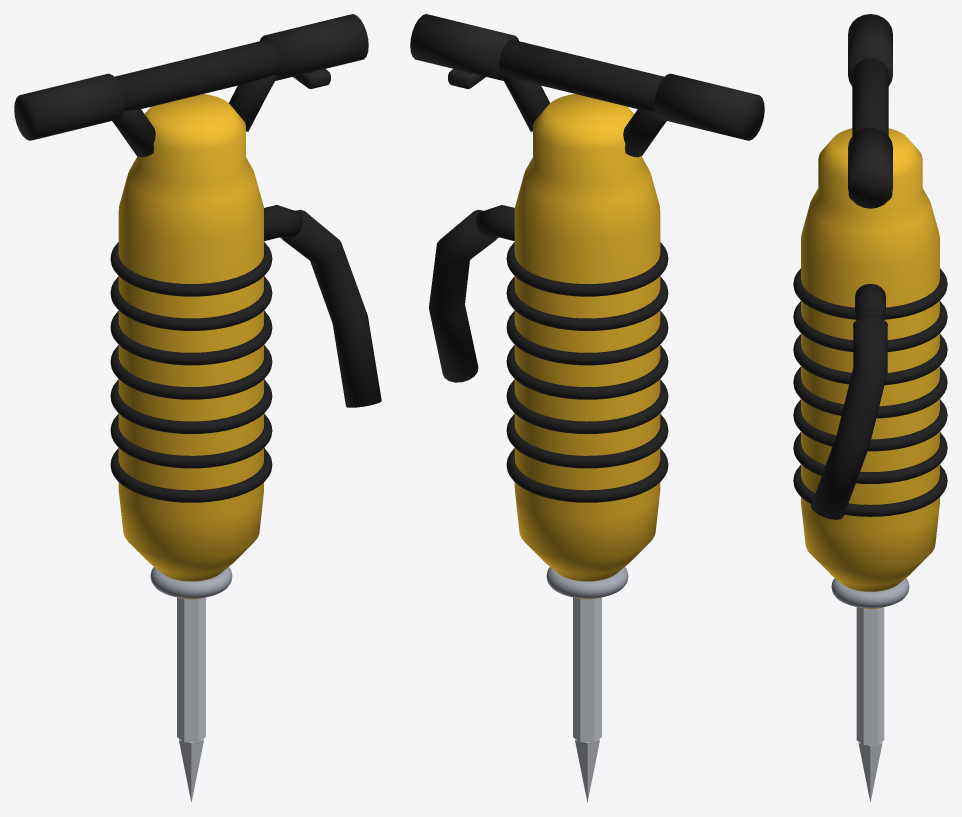
The model's file is Tool_6_Jackhammer.glb.
The picture shows the model from 3 angles, left to right: view 1: azimuth 30°, elevation 25°; view 2: azimuth 150°, elevation 25°; view 3: azimuth 270°, elevation 25°; orthographic projection. The views are drawn at different scales.
Visible parts, largest first — view 1: Body, Fins, Grips, Handles, Hose, Chisel, Collar; view 2: Body, Fins, Grips, Handles, Hose, Chisel, Collar; view 3: Body, Fins, Hose, Grips, Chisel, Handles, Collar.
Part boxes in pixels (left/top/right/bottom): Body: left=118, top=94, right=263, bottom=599; Fins: left=110, top=242, right=272, bottom=502; Grips: left=14, top=14, right=368, bottom=140; Handles: left=16, top=39, right=279, bottom=157; Hose: left=264, top=205, right=381, bottom=407; Chisel: left=177, top=597, right=205, bottom=802; Collar: left=150, top=567, right=232, bottom=598; Body: left=514, top=94, right=660, bottom=599; Fins: left=506, top=242, right=668, bottom=502; Grips: left=410, top=14, right=764, bottom=140; Handles: left=499, top=39, right=761, bottom=157; Hose: left=429, top=205, right=514, bottom=382; Chisel: left=573, top=597, right=601, bottom=802; Collar: left=546, top=567, right=628, bottom=598; Body: left=801, top=128, right=939, bottom=608; Fins: left=793, top=268, right=947, bottom=516; Hose: left=811, top=284, right=887, bottom=519; Grips: left=848, top=14, right=892, bottom=208; Chisel: left=856, top=607, right=884, bottom=802; Handles: left=852, top=58, right=888, bottom=204; Collar: left=831, top=578, right=909, bottom=608.
Size of the model in its own units: 0.42 by 0.906 by 0.178.
